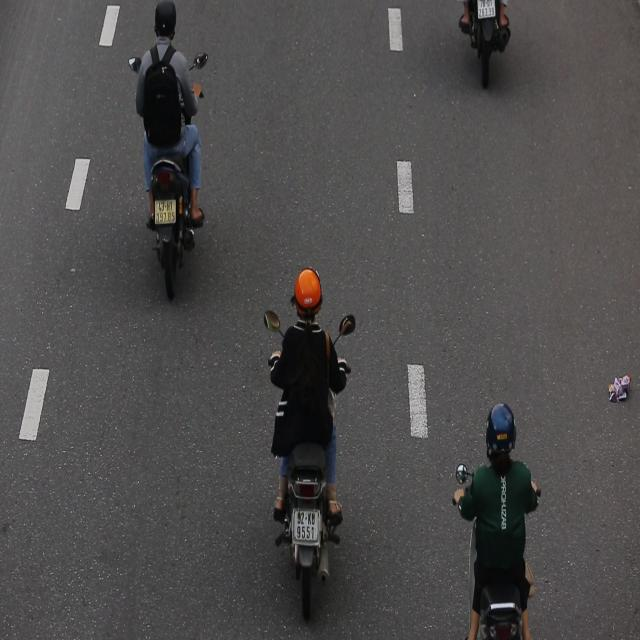motorbike: (258, 257, 360, 634), (126, 0, 208, 311)
